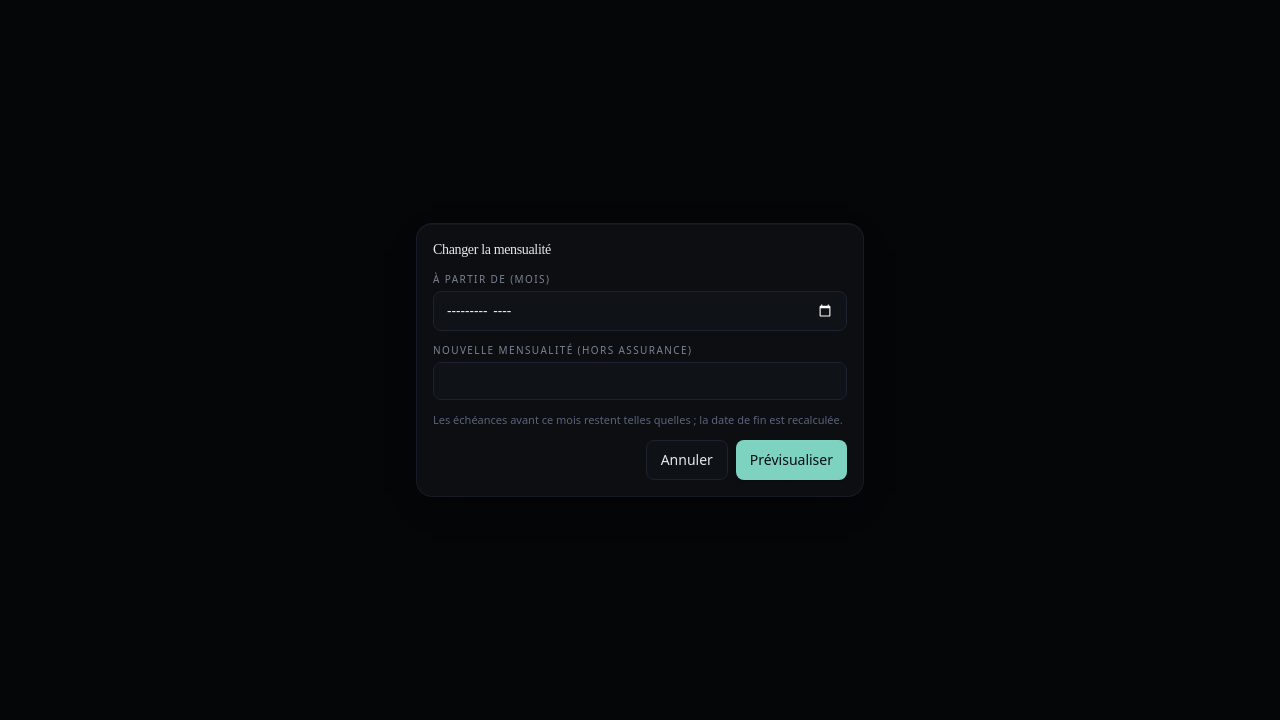
Scenario: ChangePaymentDialog › rejects a month outside the loan
In the field labelled "À partir de (mois)": point(640, 311) x1=433 y1=291 x2=847 y2=331, type "2050-01"
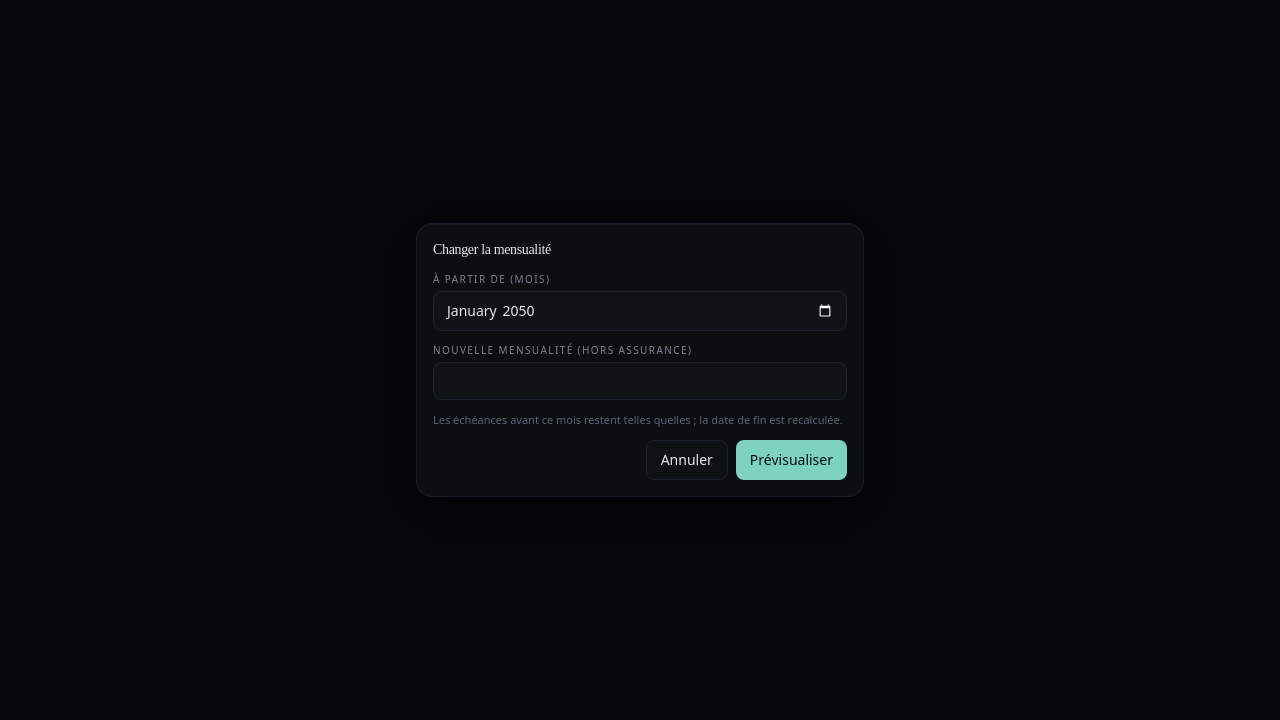
In the field labelled "Nouvelle mensualité (hors assurance)": point(640, 381) x1=433 y1=362 x2=847 y2=400, type "1 500"
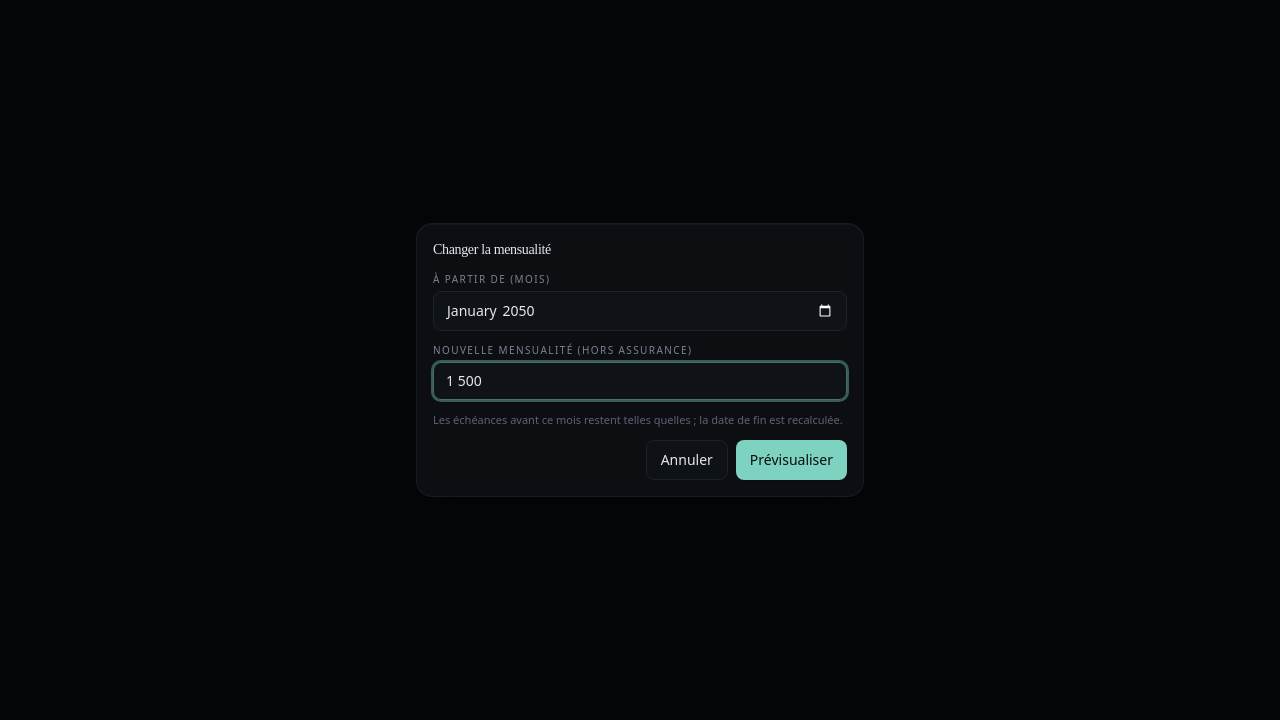
Click the button "Prévisualiser": point(791, 460) x1=736 y1=440 x2=847 y2=480
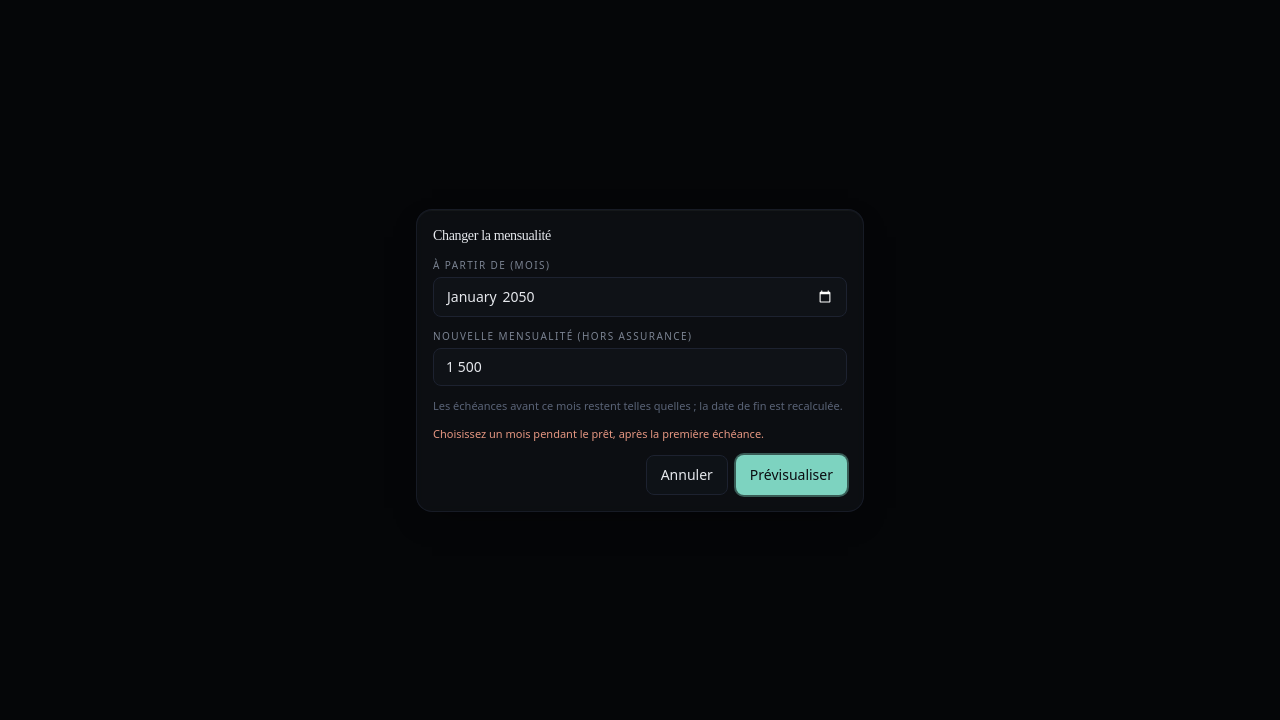
expect the text "Choisissez un mois pendant le prêt, après la première échéance." is shown: met, box x1=433 y1=426 x2=764 y2=441
